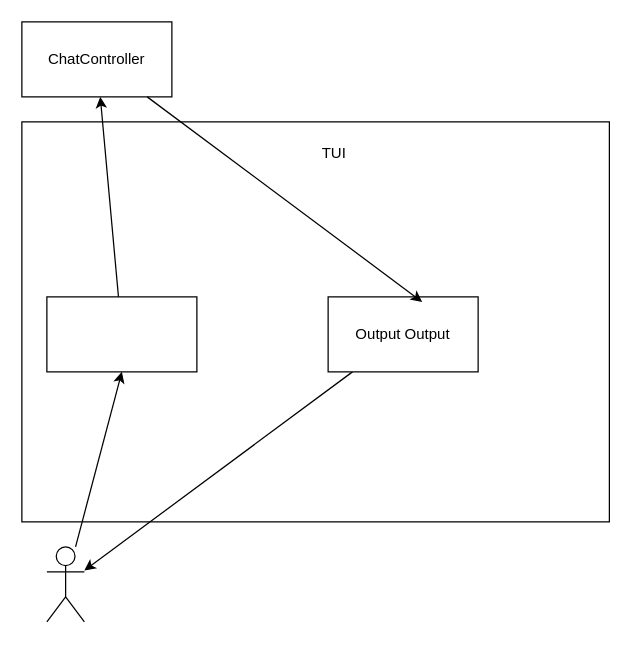
Some shapes in this 631 by 670 pixel diagram are drawn without their labels. The box of each missing label's shape, as (x1, y1, x2, y2) in pixels:
Input Input: (46, 296, 197, 372)
Nutzer: (46, 546, 84, 622)
